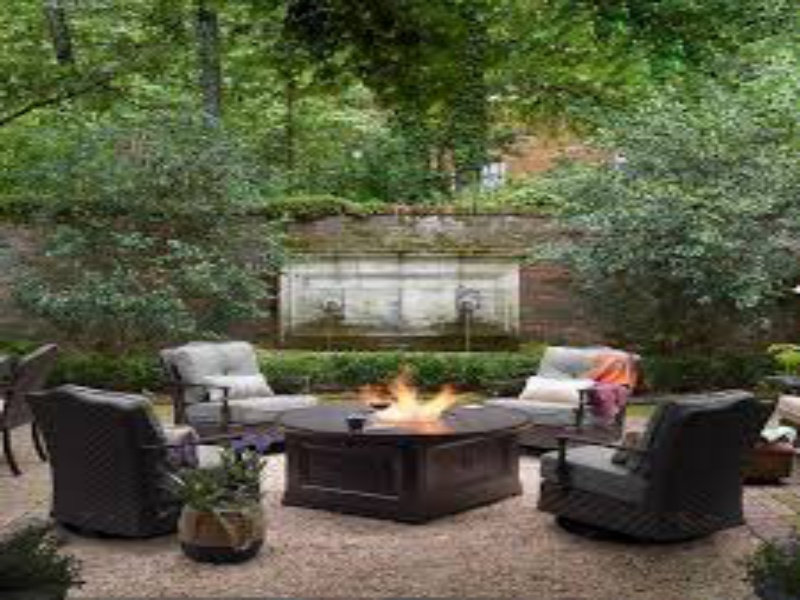fire: (374, 377, 457, 420)
